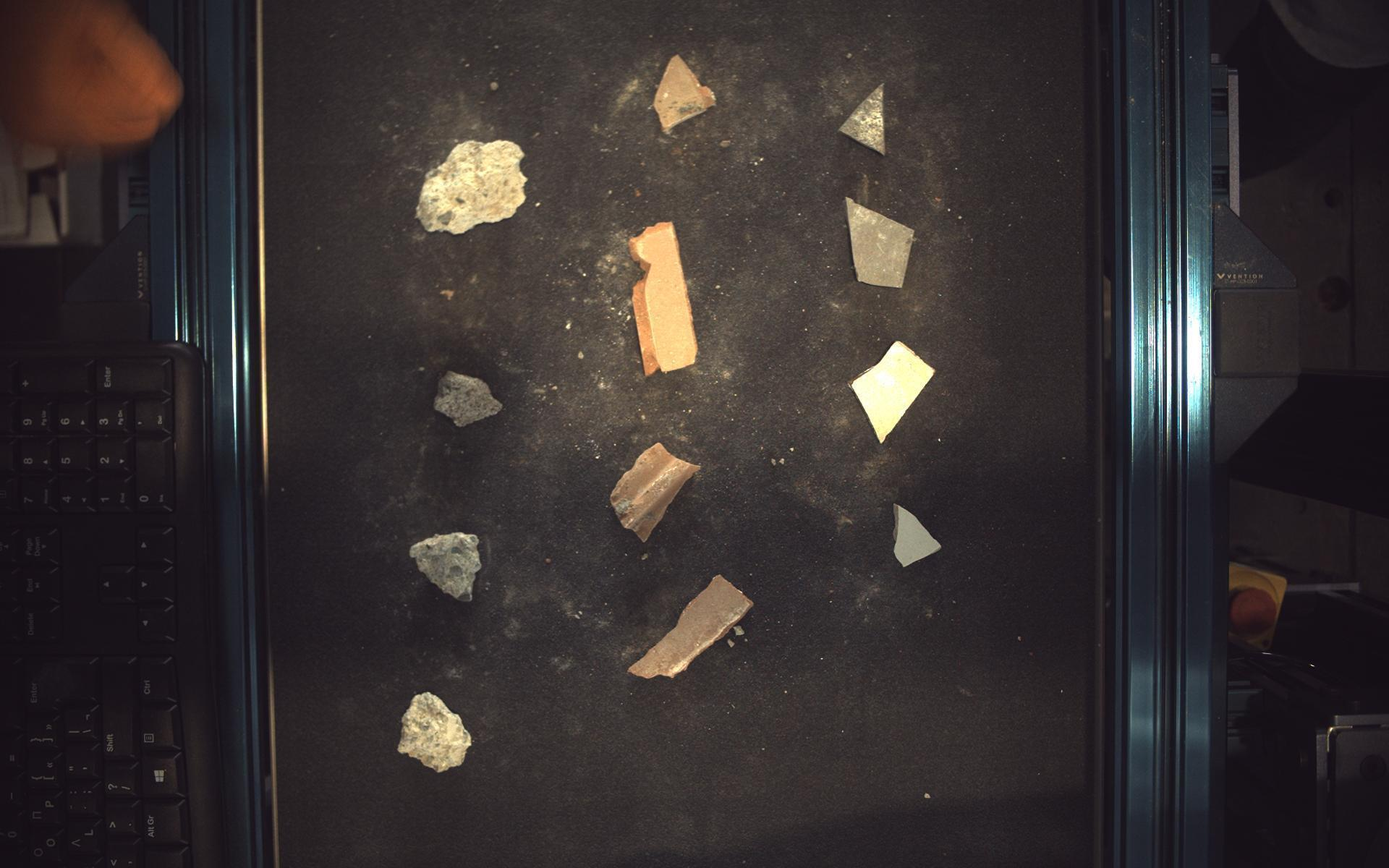brick: (629, 577, 754, 680), (629, 221, 698, 375), (611, 443, 700, 542), (654, 54, 717, 132)
concrete: (417, 139, 527, 234), (398, 693, 472, 773), (409, 533, 481, 603), (434, 371, 503, 427)
tile: (853, 341, 937, 443), (849, 197, 916, 287), (841, 82, 885, 153), (895, 504, 943, 568)
